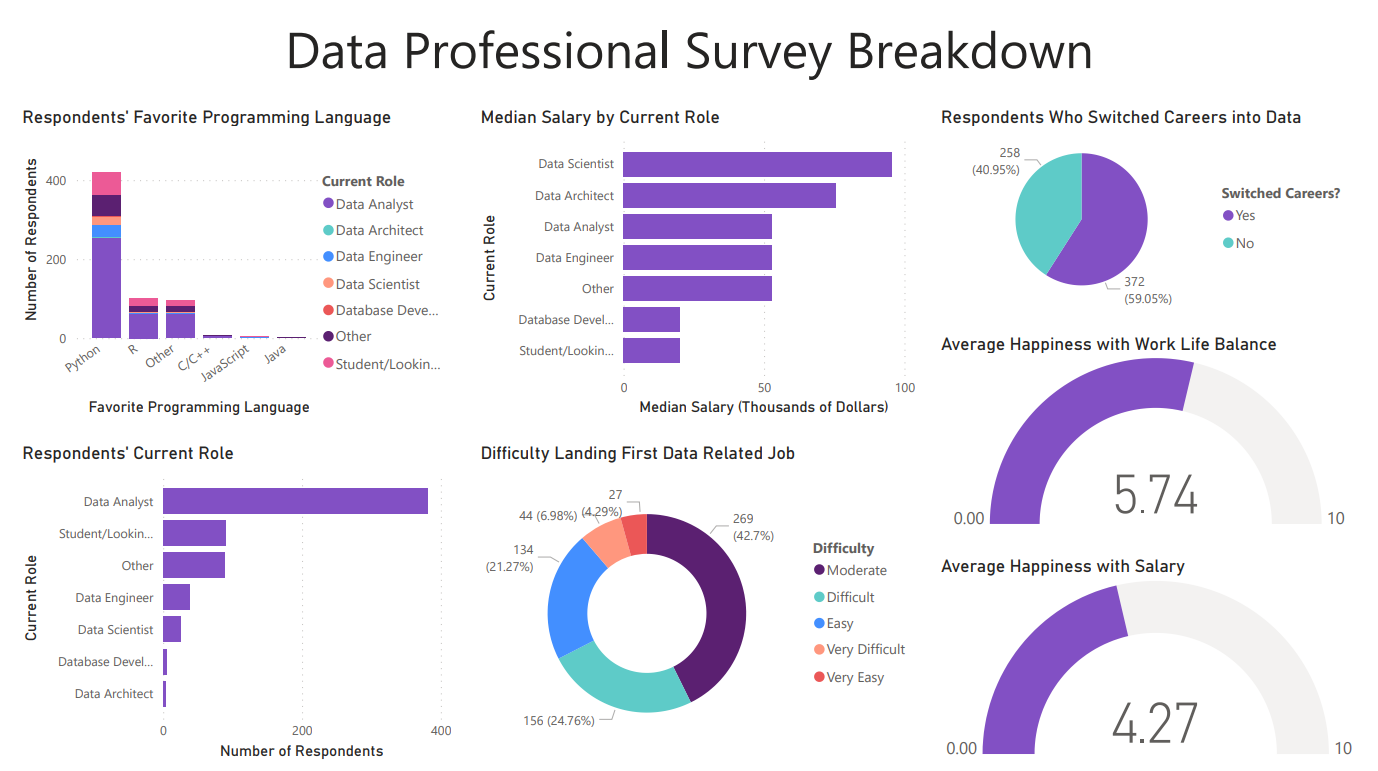

What the dashboard file says about the page in this screenshot:
{"tool":"powerbi","page":{"name":"Breakdown","canvas":[1280,720],"ordinal":0},"visuals":[{"type":"gauge","title":"Average Happiness with Salary","fields":{"Y":["Avg(Data Professional Survey.Q6 - How Happy are you in your Current Position with the following? (Salary))"],"MaxValue":["Max(Data Professional Survey.Q6 - How Happy are you in your Current Position with the following? (Salary))"]},"box":[873.8,521.2,406.2,198.8],"z":0},{"type":"gauge","title":"Average Happiness with Work Life Balance","fields":{"Y":["Avg(Data Professional Survey.Q6 - How Happy are you in your Current Position with the following? (Work/Life Balance))"],"MaxValue":["Max(Data Professional Survey.Q6 - How Happy are you in your Current Position with the following? (Work/Life Balance))"]},"box":[873.8,308.8,406.2,192.5],"z":1000},{"type":"textbox","box":[0,0,1280,77.1],"z":2000},{"type":"donutChart","title":"Difficulty Landing First Data Related Job","fields":{"Category":["Data Professional Survey.Q7 - How difficult was it for you to break into Data?"],"Y":["CountNonNull(Data Professional Survey.Q7 - How difficult was it for you to break into Data?)"]},"box":[436.2,412.5,422.5,307.5],"z":3000},{"type":"columnChart","title":"Respondents'' Favorite Programming Language","fields":{"Category":["Data Professional Survey.Q5 - Favorite Programming Language.1"],"Series":["Data Professional Survey.Q1 - Which Title Best Fits your Current Role?.1"],"Y":["CountNonNull(Data Professional Survey.Q5 - Favorite Programming Language.1)"]},"box":[0,92.5,417.5,300],"z":4000},{"type":"barChart","title":"Respondents'' Current Role","fields":{"Category":["Data Professional Survey.Q1 - Which Title Best Fits your Current Role?.1"],"Y":["CountNonNull(Data Professional Survey.Q10 - Current Age)"]},"box":[0,412.5,417.5,307.5],"z":5000},{"type":"barChart","title":"Median Salary by Current Role","fields":{"Category":["Data Professional Survey.Q1 - Which Title Best Fits your Current Role?.1"],"Y":["Median(Data Professional Survey.Average Salary)"]},"box":[436.2,92.5,422.5,300],"z":6000},{"type":"pieChart","title":"Respondents Who Switched Careers into Data","fields":{"Category":["Data Professional Survey.Q2 - Did you switch careers into Data?"],"Y":["CountNonNull(Data Professional Survey.Q2 - Did you switch careers into Data?)"]},"box":[873.8,92.5,406.2,197.5],"z":7000}]}

Visuals, with their boxes in screenshot pixels (x1, y1, x2, y2), scaled from the page's 1280x720 canvas onto the 1378x771 screenshot:
"Average Happiness with Salary" gauge: 941/558/1377/770
"Average Happiness with Work Life Balance" gauge: 941/331/1377/537
textbox: 0/0/1377/83
"Difficulty Landing First Data Related Job" donutChart: 470/442/924/770
"Respondents'' Favorite Programming Language" columnChart: 0/99/449/420
"Respondents'' Current Role" barChart: 0/442/449/770
"Median Salary by Current Role" barChart: 470/99/924/420
"Respondents Who Switched Careers into Data" pieChart: 941/99/1377/311
